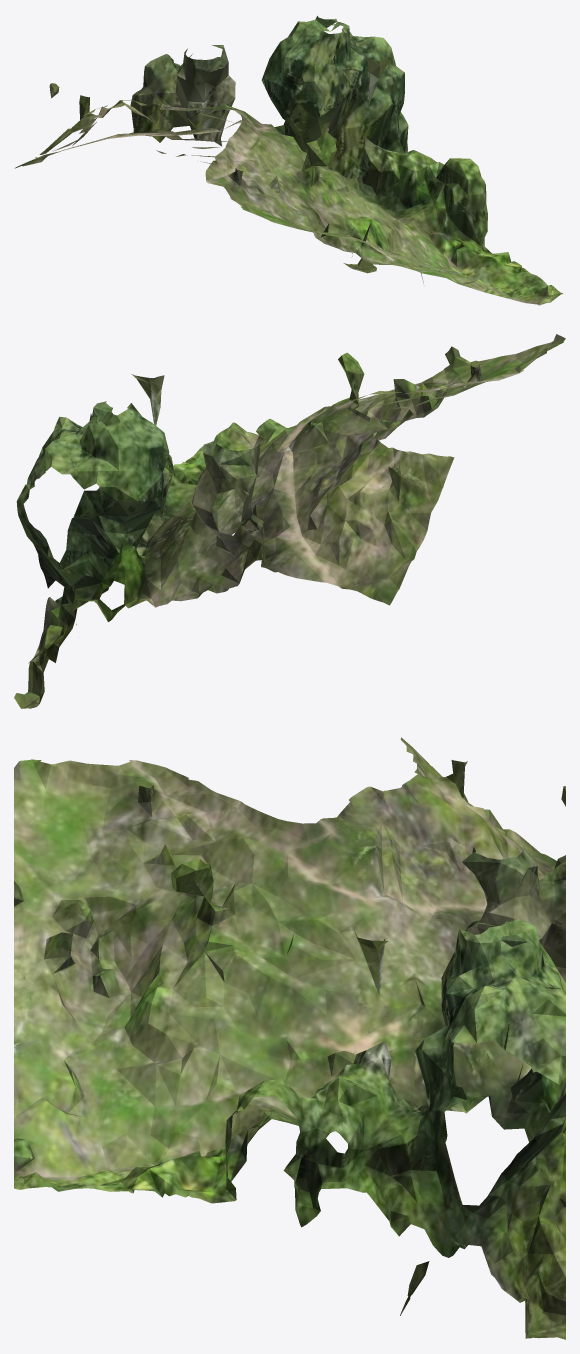
3 renders of one model, top to bottom at view 1: azimuth 30°, elevation 25°; view 2: azimuth 150°, elevation 25°; view 3: azimuth 270°, elevation 25°, orthographic. The views are drawn at different scales.
Size of the model in its own units: 26.11 by 19.51 by 26.11.
4 materials, 4 textured.
